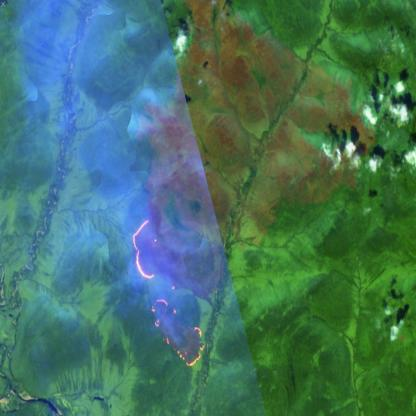fire: (128, 216, 207, 365)
